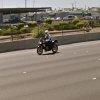Motorcycle: (28, 26, 63, 62)
